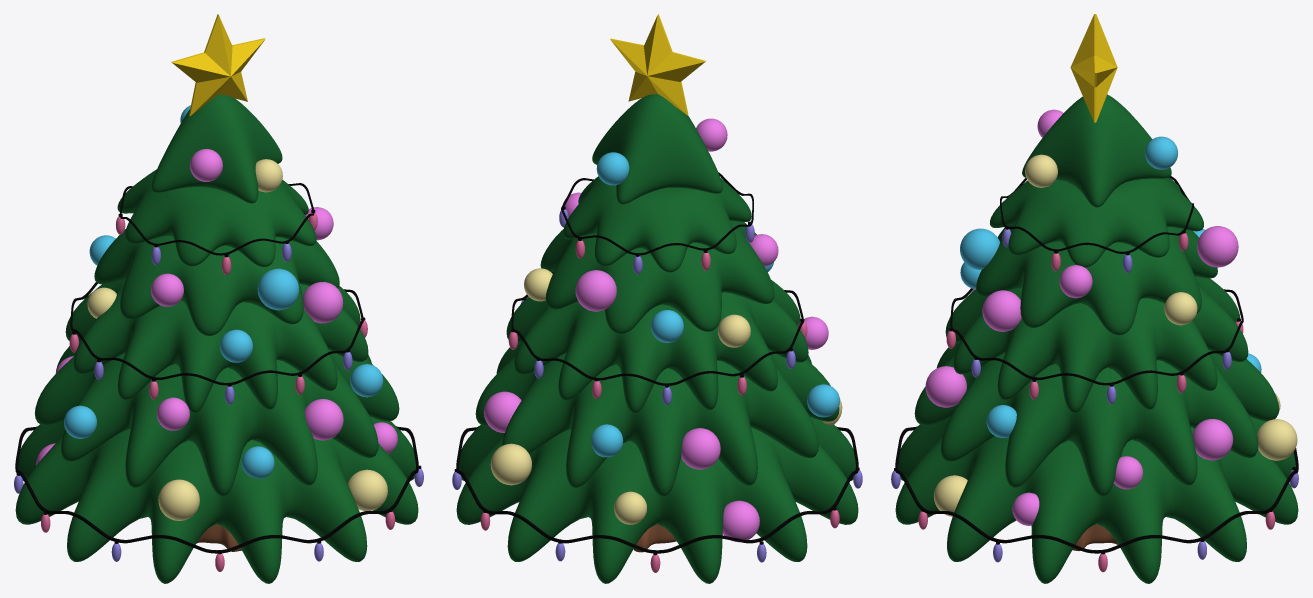
File: Christmas_tree 1.fbx
The picture shows the model from 3 angles, left to right: view 1: azimuth 30°, elevation 25°; view 2: azimuth 150°, elevation 25°; view 3: azimuth 270°, elevation 25°; orthographic projection.
Parts seen in each view (by area): view 1: Tree1, Tree2, Tree3, Balls, Tree4, Tree5, Tree6, Star, Cable1, Cable2, Cable3, TreeDown; view 2: Tree1, Tree2, Tree3, Balls, Tree4, Tree5, Tree6, Star, Cable1, Cable2, Cable3, TreeDown; view 3: Tree1, Tree2, Tree3, Balls, Tree4, Tree5, Tree6, Star, Cable1, Cable2, Cable3, TreeDown.
Part boxes in pixels (<box>): Tree1: <box>15,416,418,583</box>; Tree2: <box>34,342,399,496</box>; Tree3: <box>65,280,368,412</box>; Balls: <box>36,105,397,520</box>; Tree4: <box>94,229,339,335</box>; Tree5: <box>117,169,316,266</box>; Tree6: <box>151,94,282,203</box>; Star: <box>171,14,265,116</box>; Cable1: <box>15,426,418,553</box>; Cable2: <box>70,282,363,385</box>; Cable3: <box>120,183,314,255</box>; TreeDown: <box>196,524,241,551</box>; Tree1: <box>456,417,858,583</box>; Tree2: <box>475,343,839,496</box>; Tree3: <box>506,280,808,413</box>; Balls: <box>484,118,842,542</box>; Tree4: <box>540,220,774,333</box>; Tree5: <box>563,176,751,272</box>; Tree6: <box>592,94,722,204</box>; Star: <box>610,14,705,115</box>; Cable1: <box>456,426,858,553</box>; Cable2: <box>511,272,803,385</box>; Cable3: <box>561,172,753,255</box>; TreeDown: <box>633,524,676,552</box>; Tree1: <box>895,416,1298,583</box>; Tree2: <box>914,342,1279,496</box>; Tree3: <box>945,276,1248,413</box>; Balls: <box>925,109,1297,525</box>; Tree4: <box>976,225,1217,335</box>; Tree5: <box>990,177,1203,267</box>; Tree6: <box>1022,94,1171,207</box>; Star: <box>1070,14,1117,122</box>; Cable1: <box>895,426,1298,553</box>; Cable2: <box>950,288,1243,385</box>; Cable3: <box>1000,176,1193,253</box>; TreeDown: <box>1072,524,1118,550</box>.
Size of the model in its own units: 743 by 1026 by 734.
